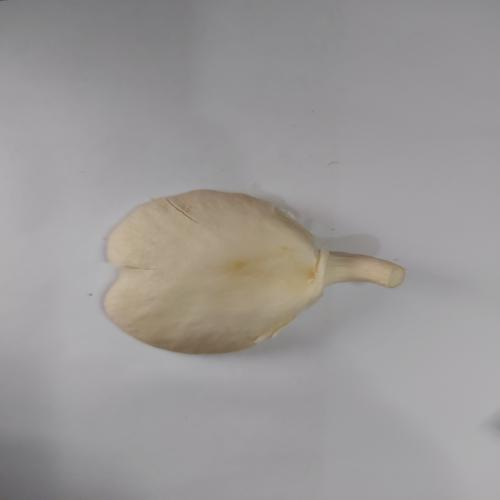Oyster Mushroom: (101, 188, 406, 356)
